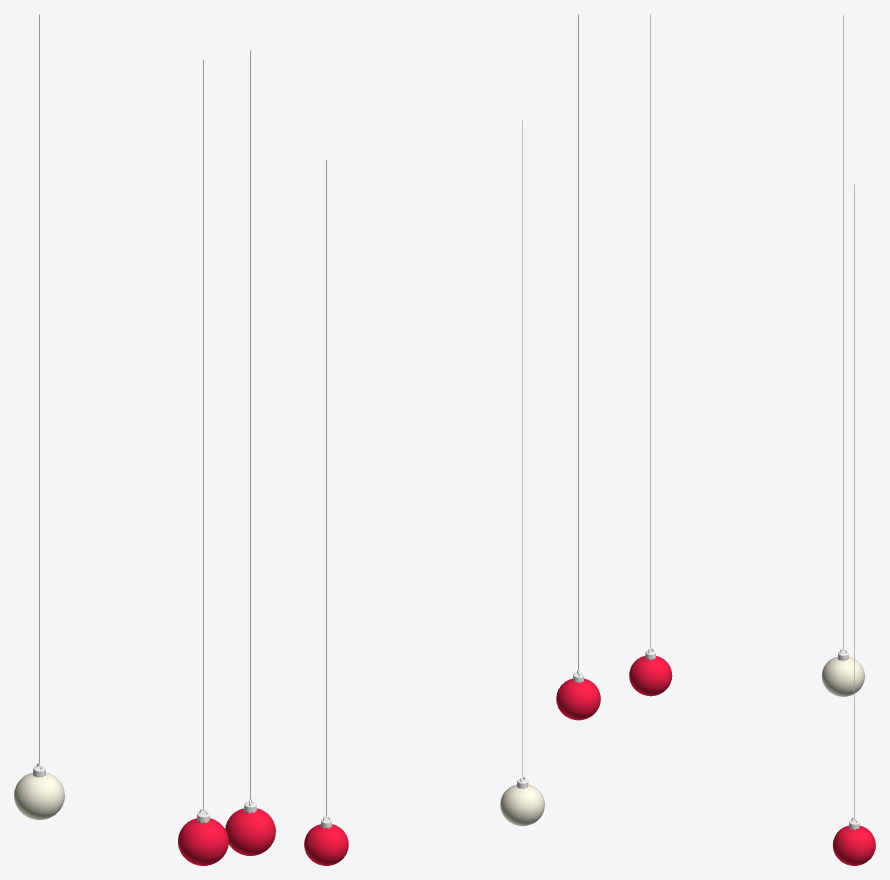
The model's file is balls.glb.
The picture shows the model from 3 angles, left to right: view 1: azimuth 30°, elevation 25°; view 2: azimuth 150°, elevation 25°; view 3: azimuth 270°, elevation 25°; orthographic projection. The views are drawn at different scales.
Parts seen in each view (by area): view 1: Ball1, Ball3, Ball2; view 2: Ball2, Ball3, Ball1; view 3: Ball3, Ball2, Ball1.
Boxes of the visible parts, x1=… form: Ball1: x1=178, y1=59, x2=228, y2=865; Ball3: x1=14, y1=14, x2=64, y2=819; Ball2: x1=225, y1=50, x2=275, y2=855; Ball2: x1=304, y1=159, x2=348, y2=865; Ball3: x1=500, y1=120, x2=544, y2=826; Ball1: x1=556, y1=14, x2=600, y2=720; Ball3: x1=821, y1=15, x2=864, y2=696; Ball2: x1=832, y1=183, x2=875, y2=865; Ball1: x1=629, y1=14, x2=672, y2=696.
Size of the model in its own units: 1.3 by 4.37 by 1.25.
Materials: 1 (1 with a texture image).
